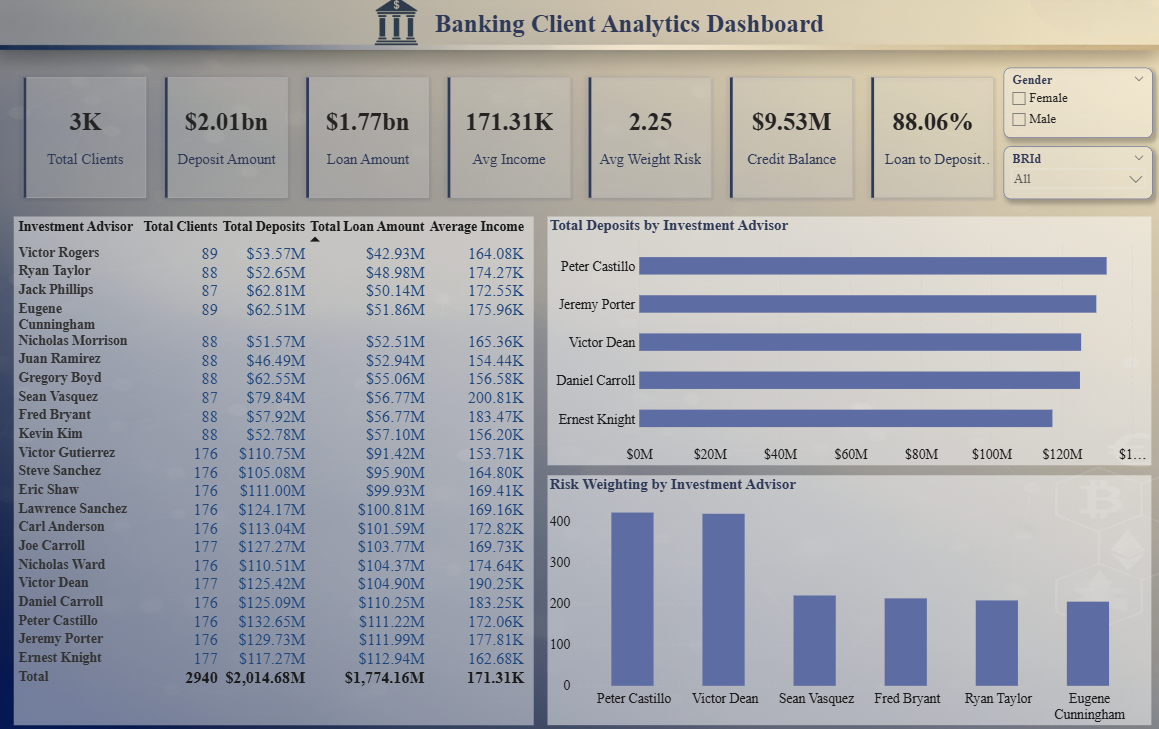

The page's visual inventory and layout, read from the dashboard file:
{"tool":"powerbi","page":{"name":"Investment Advisor Performance","canvas":[2500,1600],"ordinal":2},"visuals":[{"type":"textbox","box":[939.4,29.5,1005.4,85.8],"z":1000},{"type":"cardVisual","fields":{"Data":["Clients - Banking.total_clients","Clients - Banking.total_deposits","Clients - Banking.total_loans","Clients - Banking.total_avg_income","Clients - Banking.total_avg_risk_weighting","Clients - Banking.total_credit_balance","Clients - Banking.loan_to_deposit ratio"]},"box":[40.2,158.2,2123.3,300.3],"z":2000},{"type":"pivotTable","fields":{"Rows":["Investment Advisor.Investment Advisor"],"Values":["Clients - Banking.total_clients","Clients - Banking.total_deposits","Clients - Banking.total_loan_amount","Clients - Banking.total_avg_income"]},"box":[40.2,477.2,1115.3,1091.2],"z":2001},{"type":"clusteredBarChart","title":"Total Deposits by Investment Advisor","fields":{"Category":["Investment Advisor.Investment Advisor"],"Y":["Clients - Banking.total_deposits"]},"box":[1185,477.2,1294.9,533.5],"z":2002},{"type":"clusteredColumnChart","title":"Risk Weighting by Investment Advisor","fields":{"Category":["Investment Advisor.Investment Advisor"],"Y":["Clients - Banking.Risk Weighting"]},"box":[1185,1032.2,1294.9,536.2],"z":2003},{"type":"slicer","fields":{"Values":["Gender.Gender"]},"box":[2163.6,158.2,319,150.1],"z":2004},{"type":"slicer","fields":{"Values":["Banking Relationship.BRId"]},"box":[2163.6,327.1,319,112.6],"z":2005},{"type":"image","box":[804.3,0,112.6,115.3],"z":2006}]}

Visuals, with their boxes in screenshot pixels (x1, y1, x2, y2), scaled from the page's 2500x1600 canvas onto the 1159x729 screenshot:
textbox: <bbox>436, 13, 902, 53</bbox>
cardVisual - Clients - Banking.total_clients x Clients - Banking.total_deposits: <bbox>19, 72, 1003, 209</bbox>
pivotTable - Investment Advisor.Investment Advisor x Clients - Banking.total_clients: <bbox>19, 217, 536, 715</bbox>
"Total Deposits by Investment Advisor" clusteredBarChart: <bbox>549, 217, 1150, 461</bbox>
"Risk Weighting by Investment Advisor" clusteredColumnChart: <bbox>549, 470, 1150, 715</bbox>
slicer - Gender.Gender: <bbox>1003, 72, 1151, 140</bbox>
slicer - Banking Relationship.BRId: <bbox>1003, 149, 1151, 200</bbox>
image: <bbox>373, 0, 425, 53</bbox>
